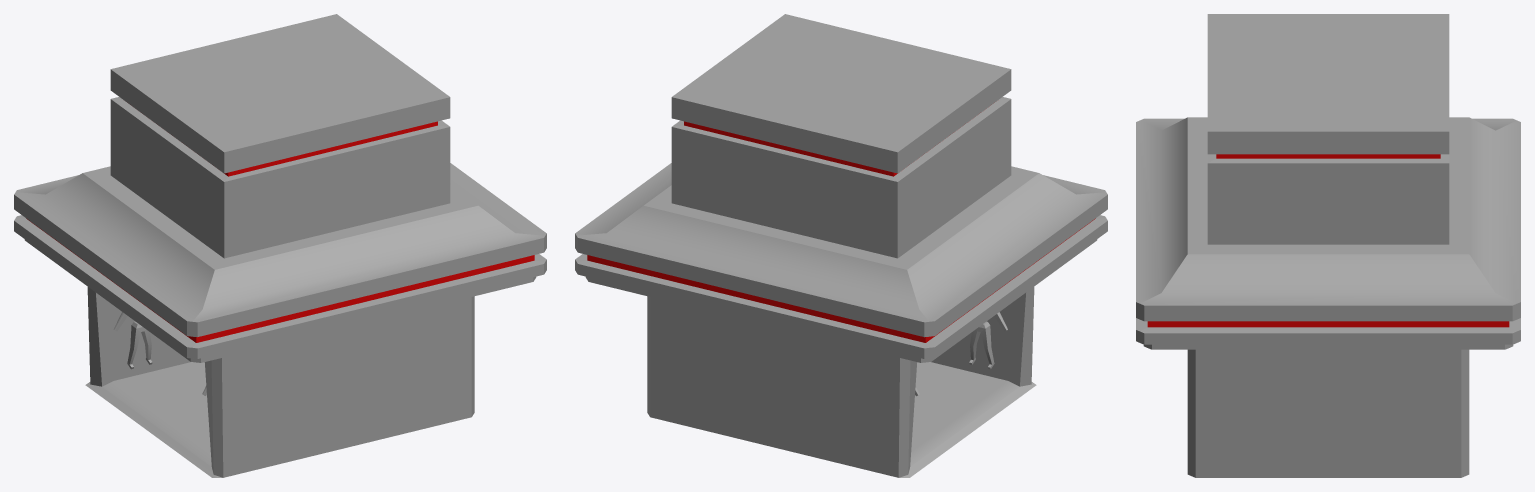
File: Factory Building.fbx
3 renders of one model, left to right at view 1: azimuth 30°, elevation 25°; view 2: azimuth 150°, elevation 25°; view 3: azimuth 270°, elevation 25°, orthographic. The views are drawn at different scales.
Parts seen in each view (by area): view 1: pCube1, pCube14; view 2: pCube1, pCube18; view 3: pCube1.
Boxes of the visible parts, x1=… form: pCube1: x1=14, y1=14, x2=546, y2=477; pCube14: x1=113, y1=312, x2=152, y2=369; pCube1: x1=575, y1=14, x2=1107, y2=477; pCube18: x1=969, y1=312, x2=1007, y2=369; pCube1: x1=1136, y1=14, x2=1520, y2=477.
Bounding box in the file's own units: 65.25 × 54.79 × 56.73.
